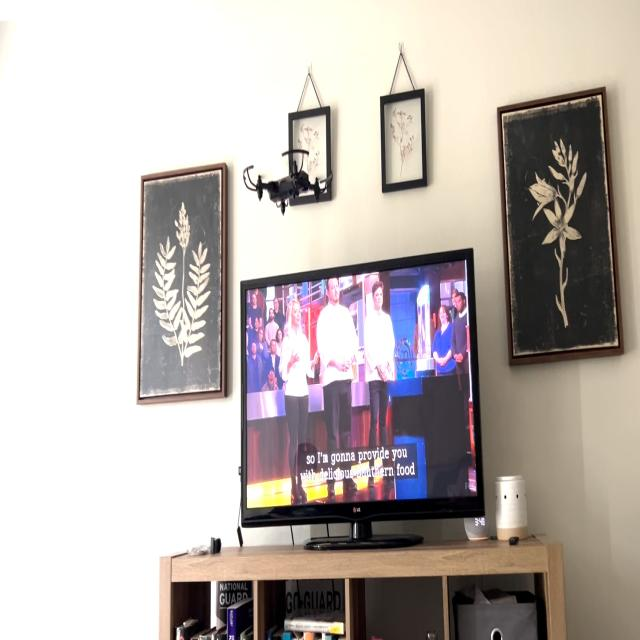drone: (230, 132, 336, 228)
